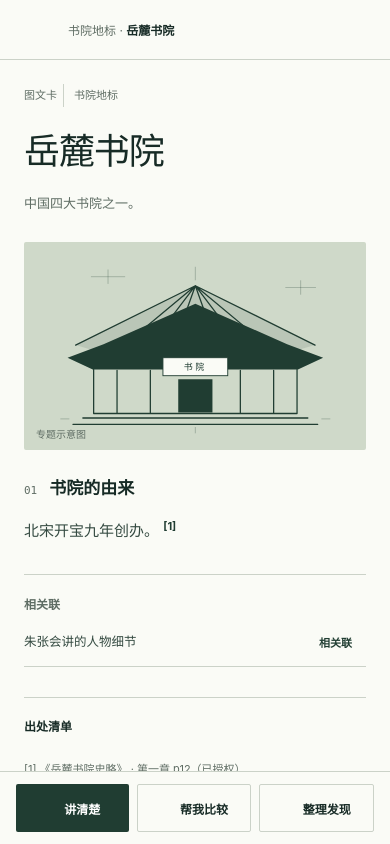
Scenario: CardView 服务栏接线(P5-21) › 提交中三键置 busy 防双击,完成后恢复
The image size is (390, 844).
Click the button with class "svc" showing "讲清楚": click(72, 808) [16, 784, 129, 832]
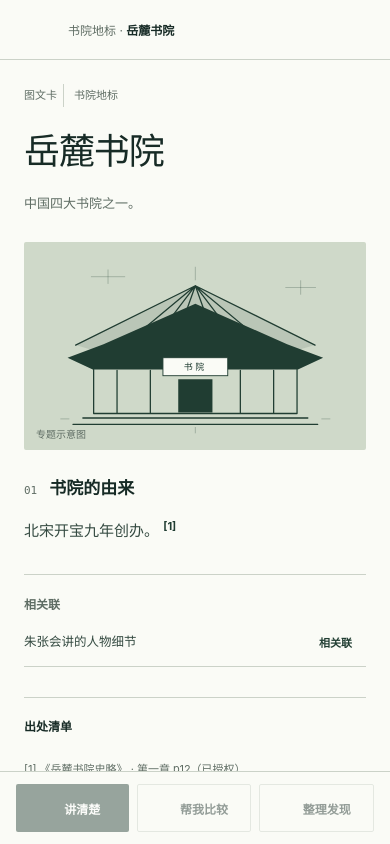
Expected: the button with class "svc" showing "讲清楚" is disabled
// 挂起期间再点不重复提交
Click the button with class "svc" showing "讲清楚": click(72, 808) [16, 784, 129, 832]
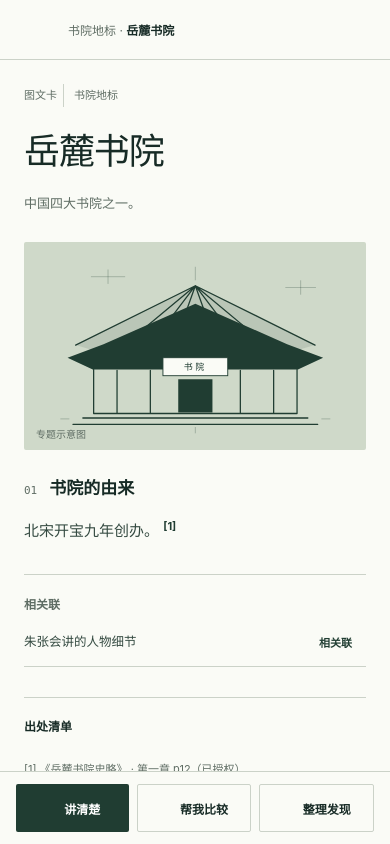
Expected: the button with class "svc" showing "讲清楚" is enabled, [16, 784, 129, 832]
